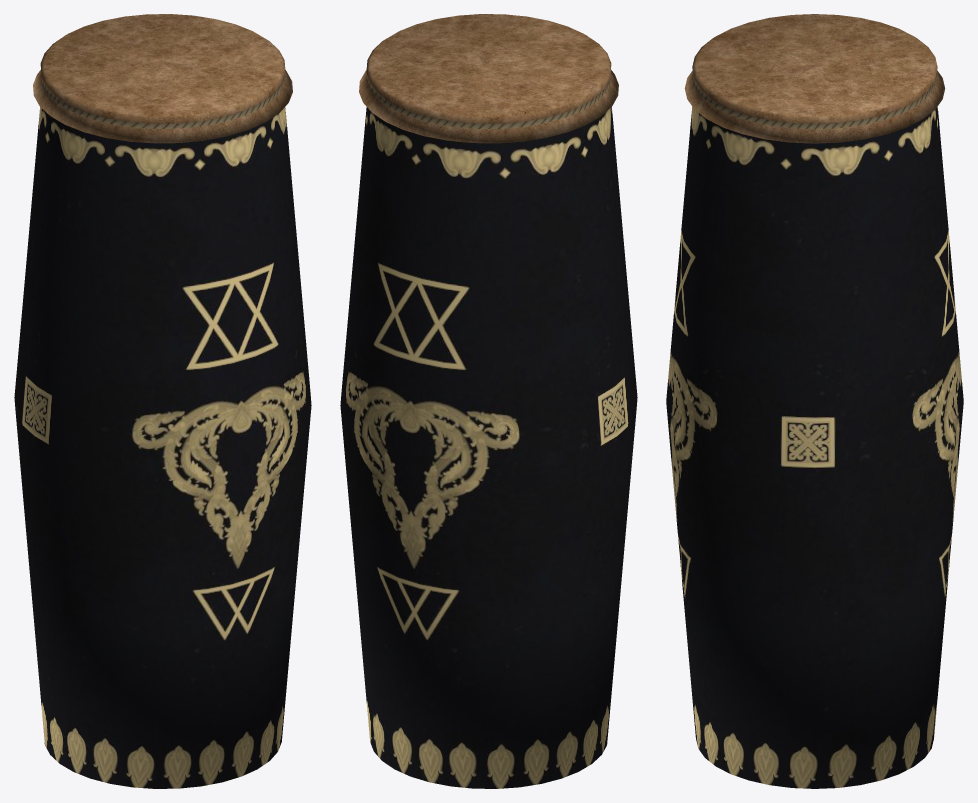
Rendered from drum.glb.
3 views of the same model, side by side, from view 1: azimuth 30°, elevation 25°; view 2: azimuth 150°, elevation 25°; view 3: azimuth 270°, elevation 25° (orthographic).
Visible parts, largest first — view 1: Object_2, Object_3; view 2: Object_2, Object_3; view 3: Object_2, Object_3.
Boxes of the visible parts, x1=… form: Object_2: x1=14, y1=107, x2=311, y2=788; Object_3: x1=33, y1=14, x2=292, y2=143; Object_2: x1=340, y1=107, x2=637, y2=788; Object_3: x1=359, y1=14, x2=618, y2=143; Object_2: x1=666, y1=107, x2=963, y2=788; Object_3: x1=684, y1=14, x2=945, y2=143.
Bounding box in the file's own units: 50 × 125 × 50.
Materials: 2 (2 with a texture image).
